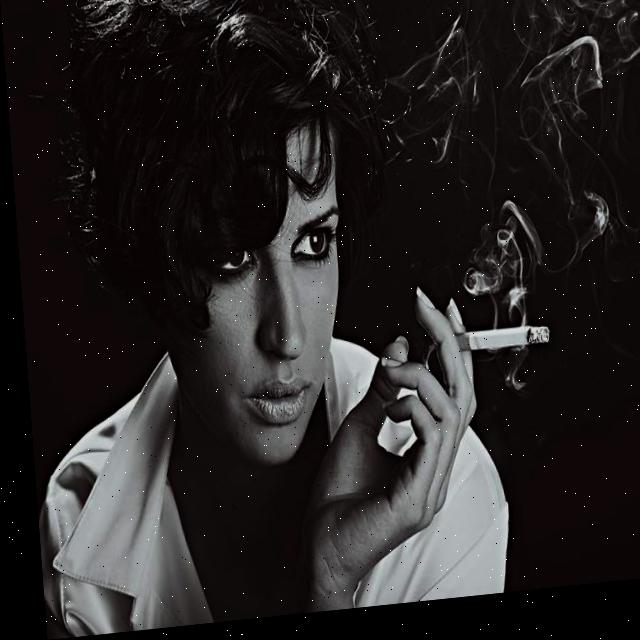cigarette: (447, 336, 545, 361)
